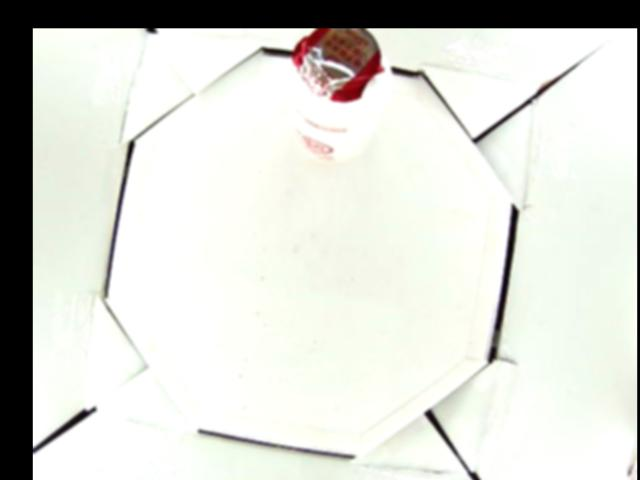Bottle: (284, 29, 395, 166)
